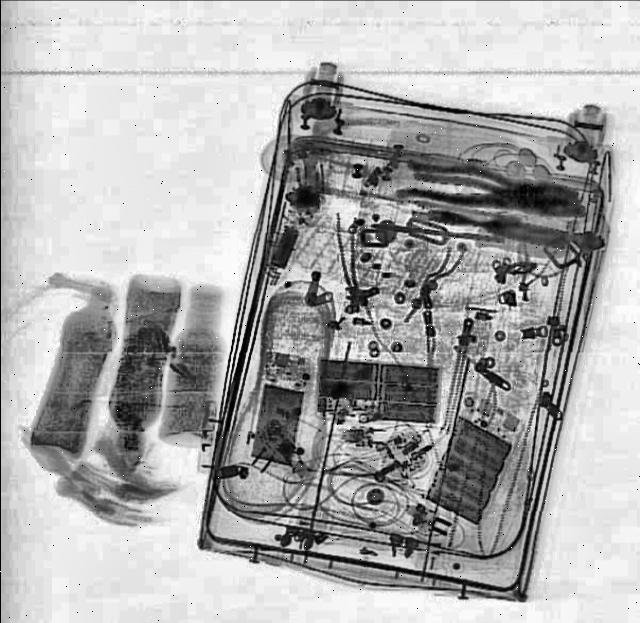Pliers: (396, 156, 582, 220)
